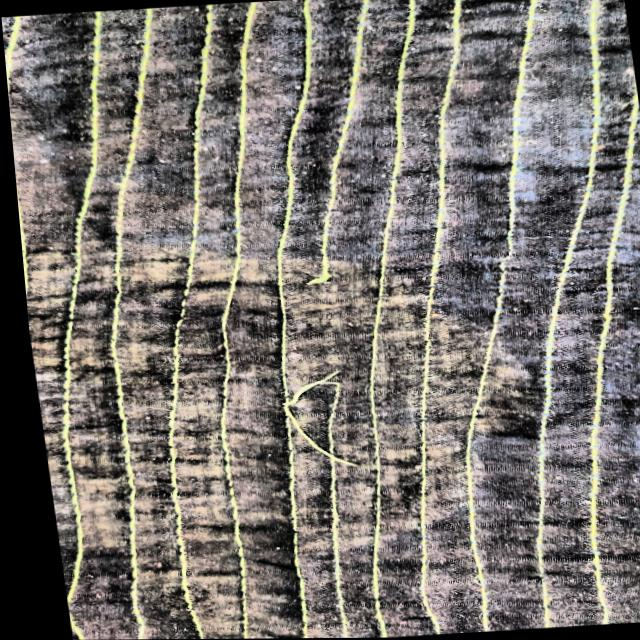Stitch: (254, 258, 371, 490)
